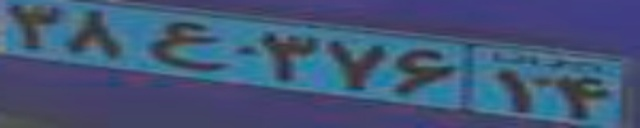1: (493, 67, 531, 112)
3: (259, 30, 319, 81), (8, 4, 60, 49)
4: (554, 76, 610, 118)
6: (392, 45, 456, 94)
7: (326, 39, 384, 89)
8: (65, 9, 121, 58)
ain: (150, 21, 227, 71)
